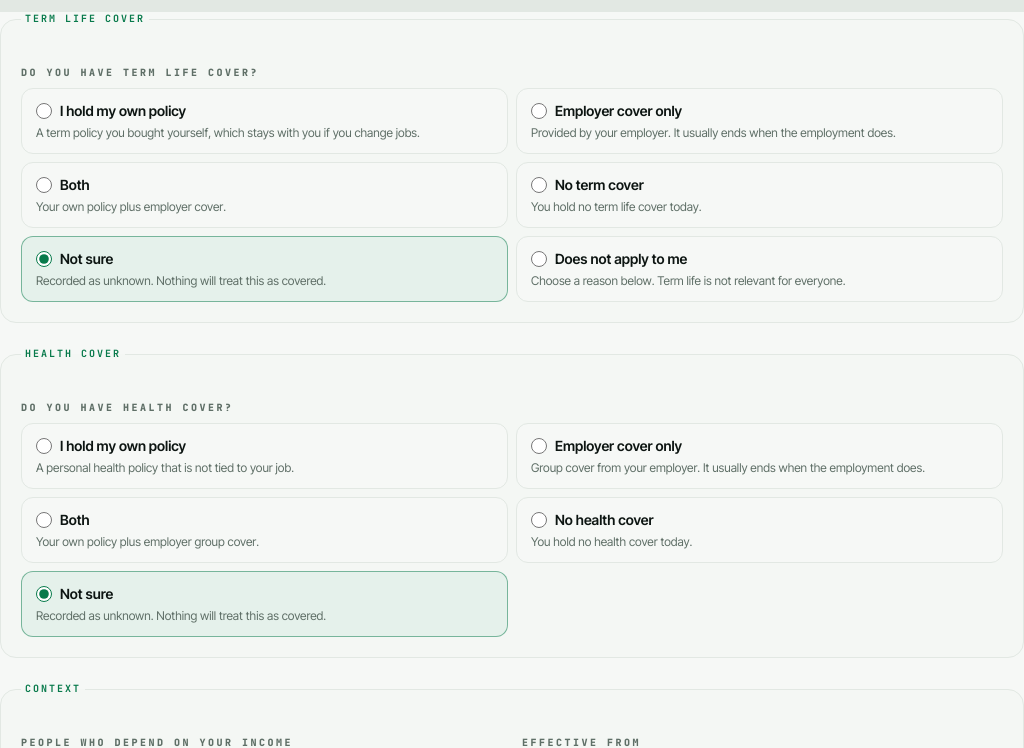
Test: ProtectionProfileForm conditional fields › reveals only the independent term fields for an own policy
The width and height of the screenshot is (1024, 748).
Click the radio button labelled "I hold my own policy". click: (44, 111)
box: top-left (36, 103), bottom-right (52, 119)
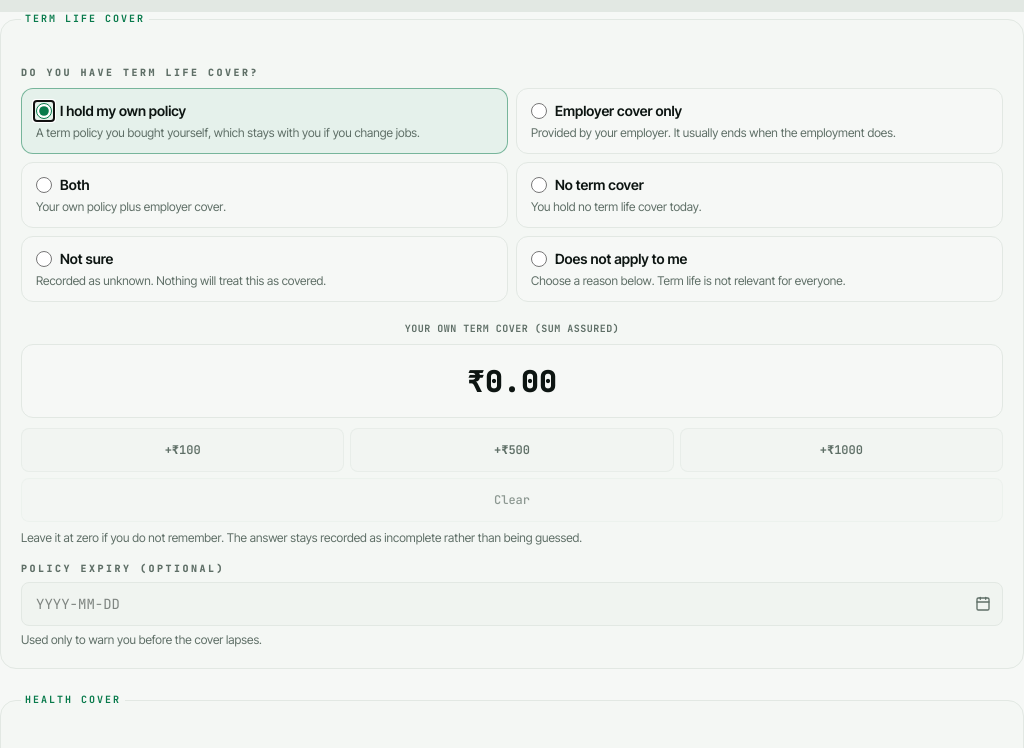
expect the field labelled "Your own term cover (sum assured)" is shown: met, box top-left (21, 344), bottom-right (1003, 418)
expect the field labelled "Policy expiry (optional)" is shown: met, box top-left (21, 582), bottom-right (1003, 626)
